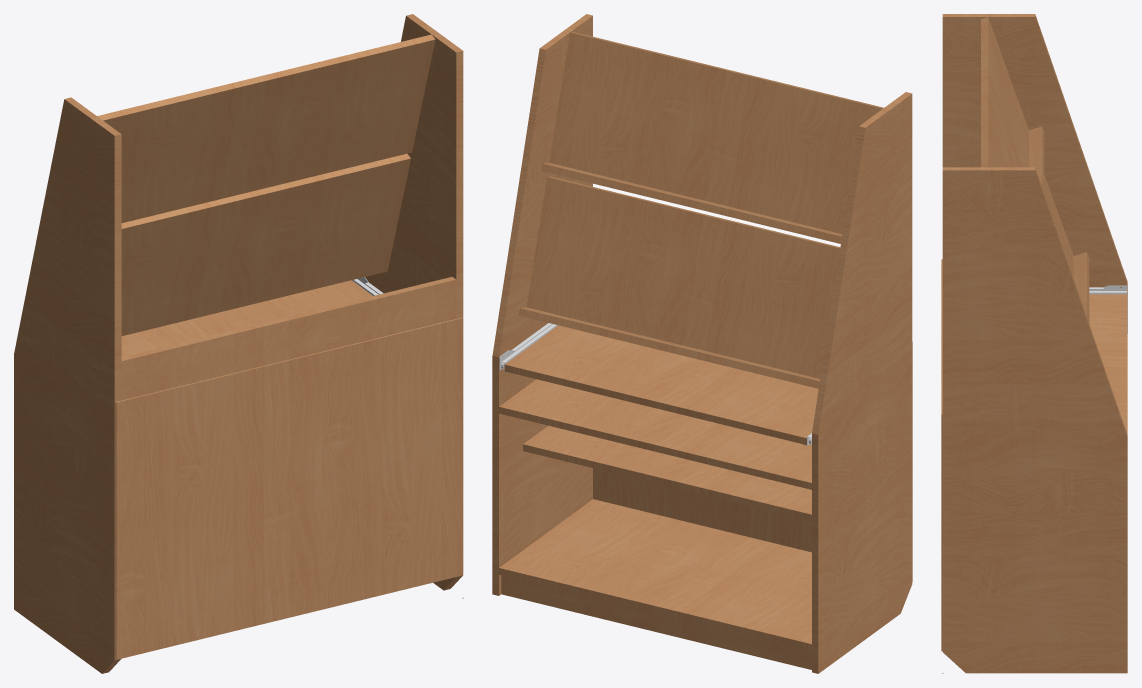
The model's file is vitrina_knizhnaja_s_vydvizhnoj_stoleshnitsej.glb.
3 views of the same model, side by side, from view 1: azimuth 30°, elevation 25°; view 2: azimuth 150°, elevation 25°; view 3: azimuth 270°, elevation 25° (orthographic). The views are drawn at different scales.
Visible parts, largest first — view 1: Shape_IndexedFaceSet.002_NON, Shape_IndexedFaceSet, Shape_IndexedFaceSet.011, Shape_IndexedFaceSet.010, Shape_IndexedFaceSet.004, Shape_IndexedFaceSet.007, Shape_IndexedFaceSet.012; view 2: Shape_IndexedFaceSet, Shape_IndexedFaceSet.011, Shape_IndexedFaceSet.010, Shape_IndexedFaceSet.006, Shape_IndexedFaceSet.007, Shape_IndexedFaceSet.012, Shape_IndexedFaceSet.005, Shape_IndexedFaceSet.003, Shape_IndexedFaceSet.002_NON, Shape_IndexedFaceSet.001, Shape_IndexedFaceSet.009, Shape_IndexedFaceSet.008; view 3: Shape_IndexedFaceSet.007, Shape_IndexedFaceSet, Shape_IndexedFaceSet.011, Shape_IndexedFaceSet.012, Shape_IndexedFaceSet.009, Shape_IndexedFaceSet.002_NON, Shape_IndexedFaceSet.008, Shape_IndexedFaceSet.010.
Boxes of the visible parts, <box> form: Shape_IndexedFaceSet.002_NON: <box>115,317,463,659</box>; Shape_IndexedFaceSet: <box>14,97,121,673</box>; Shape_IndexedFaceSet.011: <box>97,34,435,222</box>; Shape_IndexedFaceSet.010: <box>121,153,410,335</box>; Shape_IndexedFaceSet.004: <box>121,277,456,400</box>; Shape_IndexedFaceSet.007: <box>365,14,463,590</box>; Shape_IndexedFaceSet.012: <box>121,280,372,357</box>; Shape_IndexedFaceSet: <box>812,92,912,673</box>; Shape_IndexedFaceSet.011: <box>549,32,883,233</box>; Shape_IndexedFaceSet.010: <box>526,176,840,378</box>; Shape_IndexedFaceSet.006: <box>499,499,811,650</box>; Shape_IndexedFaceSet.007: <box>492,14,592,595</box>; Shape_IndexedFaceSet.012: <box>504,325,818,444</box>; Shape_IndexedFaceSet.005: <box>499,379,811,489</box>; Shape_IndexedFaceSet.003: <box>523,425,811,521</box>; Shape_IndexedFaceSet.002_NON: <box>593,342,912,581</box>; Shape_IndexedFaceSet.001: <box>501,575,811,669</box>; Shape_IndexedFaceSet.009: <box>518,307,820,388</box>; Shape_IndexedFaceSet.008: <box>541,162,842,243</box>; Shape_IndexedFaceSet.007: <box>942,167,1127,673</box>; Shape_IndexedFaceSet: <box>942,14,1127,333</box>; Shape_IndexedFaceSet.011: <box>981,17,1028,167</box>; Shape_IndexedFaceSet.012: <box>1089,294,1126,432</box>; Shape_IndexedFaceSet.009: <box>1073,252,1089,322</box>; Shape_IndexedFaceSet.002_NON: <box>941,259,942,651</box>; Shape_IndexedFaceSet.008: <box>1029,126,1044,192</box>; Shape_IndexedFaceSet.010: <box>1044,175,1073,277</box>.
Bounding box in the file's own units: 801 × 1201 × 404.
Materials: 34 (33 with a texture image).
